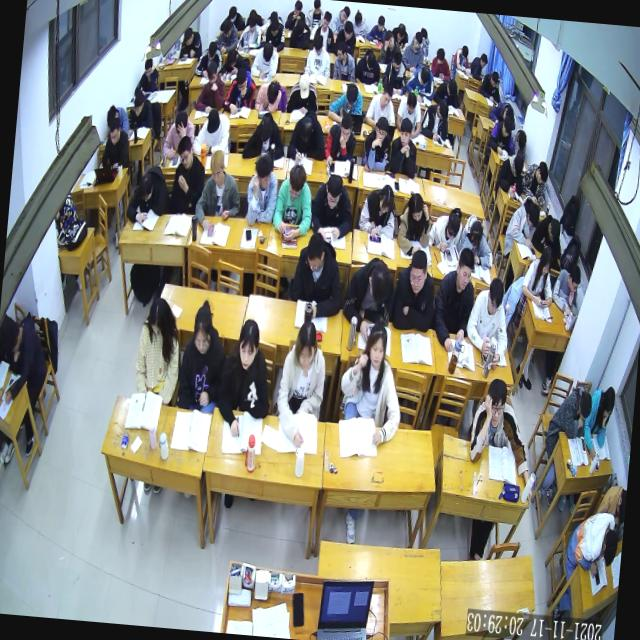bow: (124, 160, 172, 222), (240, 107, 287, 162), (455, 212, 496, 270), (326, 79, 365, 124), (530, 210, 566, 254), (403, 62, 436, 102), (253, 76, 283, 112), (220, 47, 250, 81), (432, 76, 462, 108), (487, 100, 518, 130), (288, 16, 312, 50)
down: (294, 320, 318, 370), (190, 304, 212, 354), (366, 261, 391, 304), (304, 230, 326, 272), (146, 295, 166, 337), (0, 316, 21, 354), (286, 162, 307, 200), (599, 528, 619, 567), (324, 172, 344, 210), (485, 276, 504, 316), (175, 134, 194, 168), (208, 148, 225, 185), (377, 183, 395, 216), (601, 382, 616, 420), (136, 172, 154, 203), (576, 388, 592, 422), (446, 208, 462, 240), (468, 218, 484, 249), (408, 192, 424, 222), (538, 246, 554, 276), (524, 200, 540, 230), (173, 107, 189, 136), (338, 110, 353, 140), (567, 264, 582, 294), (206, 108, 222, 136), (258, 112, 272, 142), (299, 116, 314, 144), (108, 115, 122, 144), (298, 70, 312, 99), (345, 80, 359, 108), (380, 82, 394, 109), (234, 66, 248, 92), (546, 218, 560, 244), (535, 160, 549, 186), (266, 81, 280, 105), (204, 61, 218, 85), (436, 98, 449, 122), (261, 41, 274, 64), (512, 152, 525, 175), (405, 92, 418, 114), (132, 94, 144, 117), (312, 32, 324, 54), (182, 27, 194, 48), (220, 16, 232, 36), (225, 48, 237, 68), (268, 16, 280, 36), (342, 19, 354, 39), (383, 30, 395, 50), (418, 66, 430, 86), (446, 76, 458, 96), (516, 128, 526, 152), (501, 116, 513, 136), (364, 53, 376, 72), (247, 12, 258, 32), (294, 17, 305, 37), (321, 10, 332, 30), (412, 30, 423, 50), (143, 57, 153, 78), (206, 39, 216, 60), (489, 68, 499, 89), (396, 22, 406, 42), (392, 51, 402, 71), (502, 104, 514, 120), (435, 45, 445, 64), (478, 49, 488, 68), (340, 4, 350, 22), (292, 0, 303, 16), (228, 3, 238, 20), (353, 10, 362, 27), (376, 15, 385, 32), (460, 44, 469, 60), (311, 0, 320, 15)
lookup: (484, 376, 508, 429), (237, 317, 260, 371), (366, 321, 388, 368), (407, 249, 429, 294), (455, 246, 475, 290), (398, 116, 413, 146), (374, 113, 388, 143)
sit: (335, 318, 407, 448), (214, 312, 276, 440), (272, 318, 329, 446), (466, 376, 536, 480), (173, 297, 229, 411), (131, 292, 184, 404), (286, 229, 346, 322), (431, 242, 478, 354), (341, 252, 396, 342), (462, 274, 512, 370), (0, 309, 47, 405), (389, 248, 439, 335), (194, 144, 245, 228), (563, 504, 621, 576), (270, 159, 316, 243), (308, 168, 355, 240), (168, 134, 208, 217), (544, 378, 594, 441), (242, 152, 280, 228), (580, 380, 616, 460), (394, 190, 434, 260), (518, 243, 556, 309), (284, 109, 328, 164), (356, 180, 399, 236), (192, 104, 234, 160), (322, 110, 358, 171), (160, 106, 197, 164), (387, 114, 420, 178), (504, 192, 540, 249), (361, 114, 393, 176), (98, 118, 132, 172), (222, 64, 257, 116), (284, 69, 322, 116), (195, 58, 228, 112), (550, 262, 584, 314), (429, 205, 464, 255), (364, 80, 398, 128), (419, 94, 451, 141), (394, 90, 424, 138), (302, 31, 332, 78), (520, 157, 549, 205), (248, 39, 280, 80), (488, 114, 518, 157), (496, 150, 526, 193), (381, 50, 408, 96), (133, 55, 160, 98), (194, 38, 223, 78), (352, 44, 382, 82), (330, 40, 357, 81), (127, 92, 156, 130), (401, 29, 426, 72), (312, 8, 336, 52), (259, 13, 287, 50), (377, 28, 402, 68), (236, 12, 263, 49), (178, 25, 203, 62), (478, 66, 502, 104), (429, 44, 454, 80), (334, 18, 358, 55), (214, 18, 240, 52), (218, 4, 246, 34), (364, 13, 388, 45), (508, 125, 528, 162), (283, 0, 306, 32), (328, 4, 349, 37), (451, 44, 472, 76), (469, 50, 489, 80), (305, 0, 323, 33), (388, 20, 409, 48), (351, 8, 370, 36)
